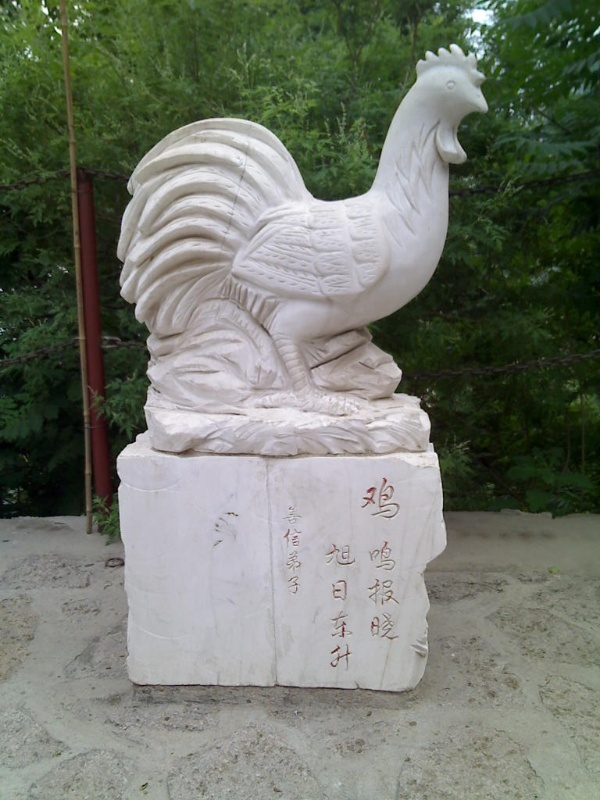text: (337, 542, 352, 673), (385, 540, 401, 646), (369, 540, 384, 646), (289, 504, 305, 597), (326, 542, 336, 673), (385, 478, 401, 519), (369, 478, 384, 519), (283, 504, 288, 597), (353, 542, 356, 673), (360, 478, 368, 519), (365, 540, 368, 646)
